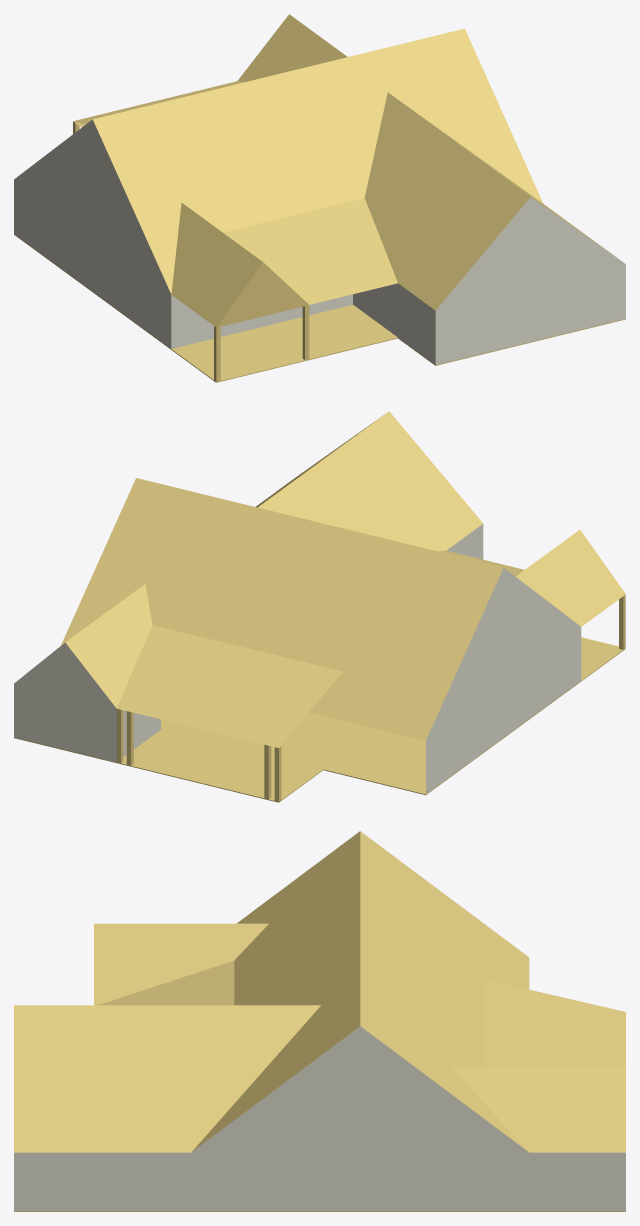
File: house-edit.glb
The picture shows the model from 3 angles, top to bottom: view 1: azimuth 30°, elevation 25°; view 2: azimuth 150°, elevation 25°; view 3: azimuth 270°, elevation 25°; orthographic projection. The views are drawn at different scales.
Parts seen in each view (by area): view 1: object 3, Front (×2), object 4, Left, object 1, object 25, object 5, object 22, object 10, object 12, object 7; view 2: object 13, Left, object 7, object 25, object 4, Back, object 5, object 10, object 26, object 22; view 3: right, object 16, object 13, object 3, object 9, object 7, object 2, object 1, object 25.
Boxes of the visible parts, x1=… form: object 3: x1=93, y1=28, x2=543, y2=293; Front (×2): x1=171, y1=197, x2=625, y2=364; object 4: x1=364, y1=92, x2=530, y2=310; Left: x1=14, y1=119, x2=171, y2=348; object 1: x1=223, y1=198, x2=397, y2=304; object 25: x1=14, y1=234, x2=625, y2=382; object 5: x1=171, y1=203, x2=262, y2=327; object 22: x1=353, y1=283, x2=435, y2=364; object 10: x1=237, y1=14, x2=347, y2=81; object 12: x1=217, y1=262, x2=308, y2=327; object 7: x1=73, y1=81, x2=244, y2=124; object 13: x1=61, y1=478, x2=503, y2=740; Left: x1=426, y1=568, x2=581, y2=793; object 7: x1=116, y1=625, x2=342, y2=747; object 25: x1=14, y1=637, x2=625, y2=802; object 4: x1=258, y1=411, x2=482, y2=551; Back: x1=14, y1=642, x2=116, y2=762; object 5: x1=515, y1=530, x2=625, y2=626; object 10: x1=65, y1=584, x2=152, y2=708; object 26: x1=123, y1=710, x2=160, y2=756; object 22: x1=447, y1=524, x2=483, y2=559; right: x1=14, y1=1026, x2=625, y2=1210; object 16: x1=14, y1=1005, x2=320, y2=1152; object 13: x1=360, y1=831, x2=529, y2=1151; object 3: x1=192, y1=831, x2=360, y2=1151; object 9: x1=451, y1=1067, x2=625, y2=1152; object 7: x1=486, y1=979, x2=625, y2=1066; object 2: x1=94, y1=923, x2=268, y2=1005; object 1: x1=98, y1=960, x2=234, y2=1005; object 25: x1=14, y1=1211, x2=625, y2=1211.
Size of the model in its own units: 43000 by 19100 by 57000.
